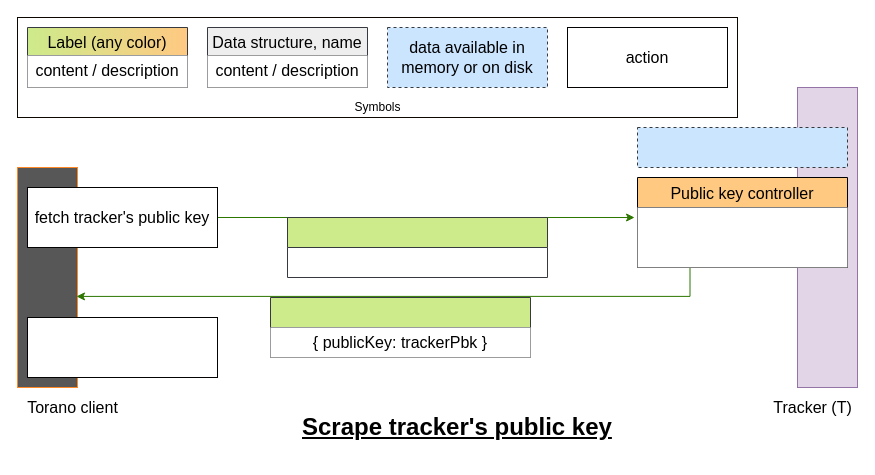
Some shapes in this 875 by 475 pixel diagram are drawn without their labels. Each missing label, with the box of its shape:
GET /public-key: (286, 216, 548, 278)
public key (trackerPbk): (636, 126, 848, 168)
Res (json): (270, 296, 530, 358)
Send current session public key: (637, 207, 847, 267)
store the public key: (26, 316, 218, 378)
